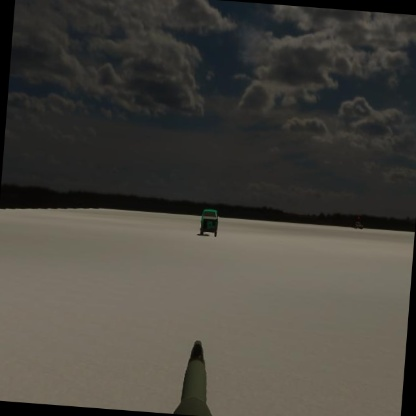green_car: (196, 208, 219, 237)
